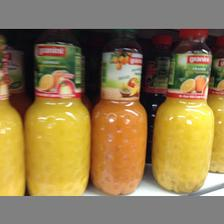Saft: (22, 28, 90, 194), (150, 27, 214, 191), (90, 28, 146, 191)
